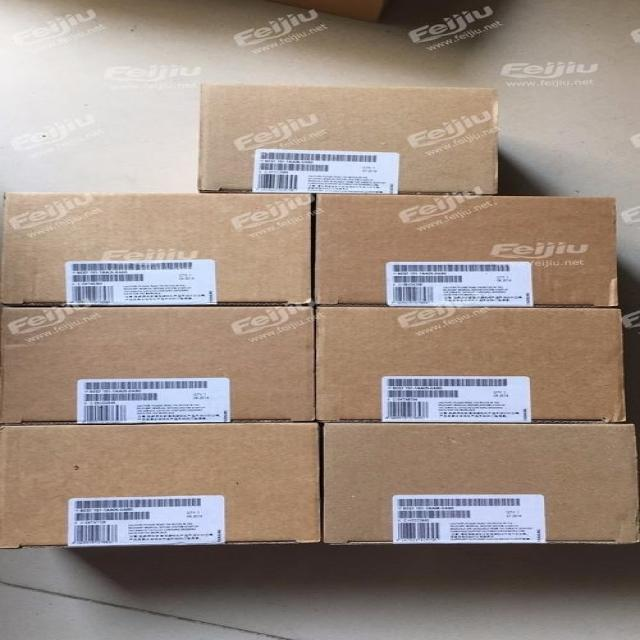box: (0, 424, 325, 545), (319, 421, 634, 545), (312, 305, 623, 427), (4, 304, 314, 422), (0, 192, 318, 305), (194, 85, 501, 195), (313, 195, 612, 307), (300, 1, 387, 26)
